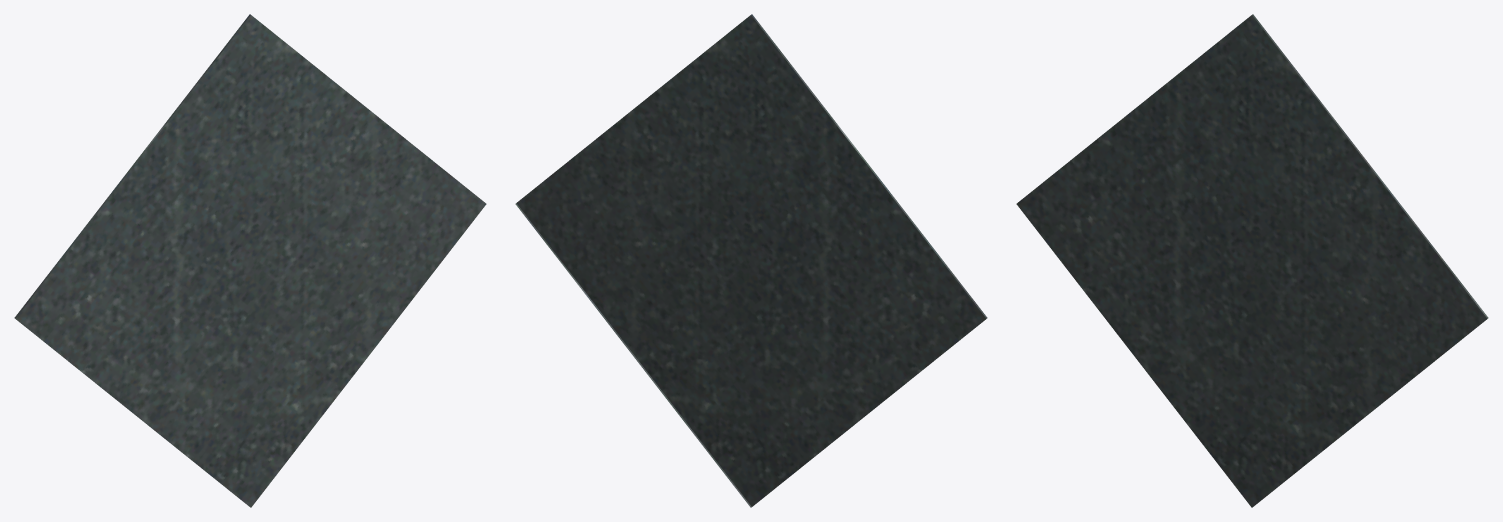
The model's file is object_99_lev2.glb.
The picture shows the model from 3 angles, left to right: view 1: azimuth 30°, elevation 25°; view 2: azimuth 150°, elevation 25°; view 3: azimuth 330°, elevation 25°; orthographic projection.
Parts seen in each view (by area): view 1: object_99_lev2; view 2: object_99_lev2; view 3: object_99_lev2.
Part boxes in pixels (x1,y1,x2,y2): object_99_lev2: [14, 14, 486, 507]; object_99_lev2: [515, 14, 987, 507]; object_99_lev2: [1016, 14, 1488, 507].
Bounding box in the file's own units: 0.6822 × 0.6822 × 0.00284.
1 material, 1 textured.
